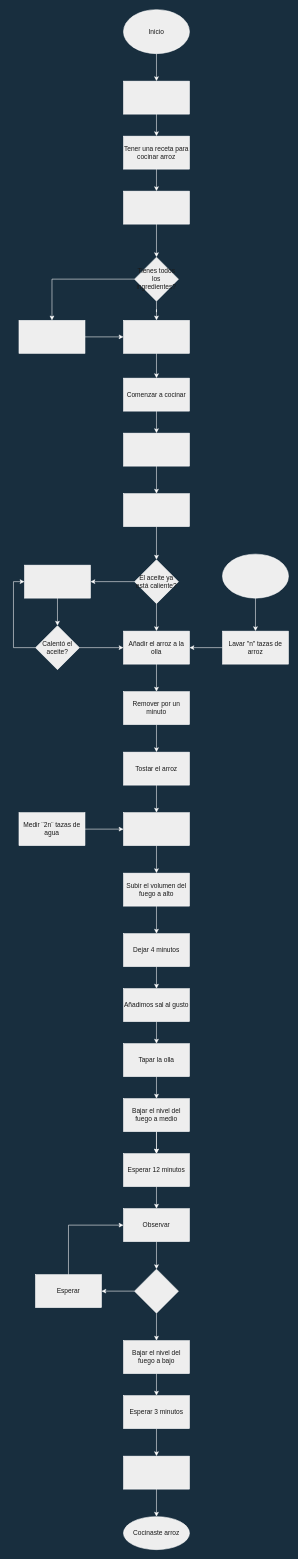
The diagram is 298 pixels wide and 1559 high, and some of its shapes have lost their labels. The shapes that lost their labels are listed below. From the top down, each one's centre as x and y in pixels, then its label:
the point at 156,97: Buscar una receta para cocinar arroz
the point at 156,207: Revisar si tienes o no los ingredientes
the point at 51,336: Comprar ingredientes faltantes
the point at 156,336: Alistar los ingredientes
the point at 156,449: Calentar una olla
the point at 156,510: Añadir "2n" cucharas de aceite
the point at 57,581: Seguir calentando el aceite
the point at 255,576: Arroz
the point at 156,829: Verter el agua
the point at 156,1291: Casi no hay agua
the point at 156,1472: Dejar reposar 5 minutos
